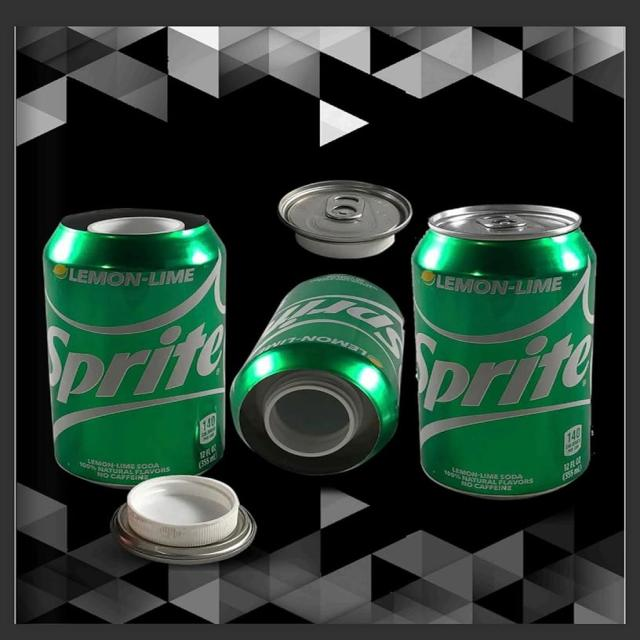sprite: (31, 209, 258, 490), (423, 210, 613, 494), (246, 269, 408, 462)
